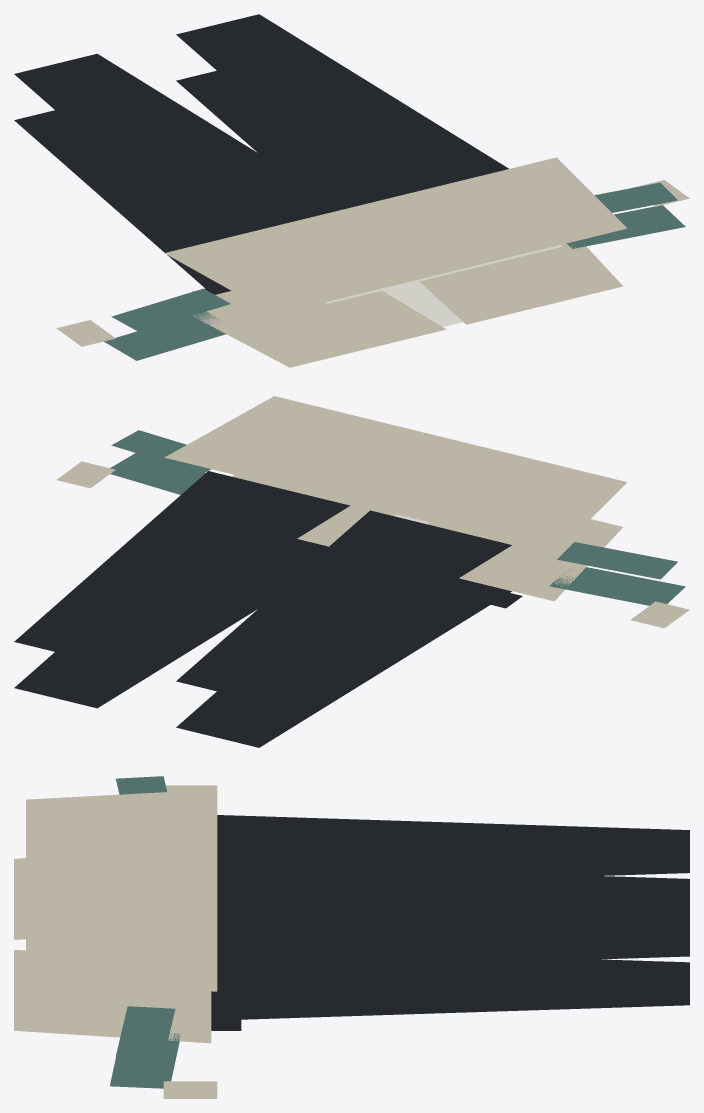
Rendered from structural.obj.
3 views of the same model, one above another, from view 1: azimuth 30°, elevation 25°; view 2: azimuth 150°, elevation 25°; view 3: azimuth 270°, elevation 25° (orthographic). The views are drawn at different scales.
Visible parts, largest first — view 1: dolman_back, trouser_back_R, trouser_back_L, dolman_front_L, dolman_front_R, trouser_front_L, trouser_front_R, hinge_gusset_L, hinge_facing_L, hinge_gusset_R, inner_front, hinge_facing_R (+2 smaller); view 2: dolman_back, trouser_back_R, trouser_back_L, trouser_front_L, trouser_front_R, dolman_front_L, hinge_gusset_L, hinge_facing_L, hinge_gusset_R, dolman_front_R, hinge_facing_R, cuff_R (+1 smaller); view 3: dolman_back, trouser_back_R, trouser_back_L, trouser_front_R, trouser_front_L, dolman_front_R, hinge_facing_R, hinge_gusset_R, cuff_R, dolman_front_L, hinge_facing_L, waistband.
Boxes of the visible parts, x1,y1,x2,y2 form: dolman_back: [164, 157, 627, 314]; trouser_back_R: [176, 14, 508, 203]; trouser_back_L: [14, 53, 346, 242]; dolman_front_L: [193, 290, 446, 367]; dolman_front_R: [419, 243, 623, 324]; trouser_front_L: [14, 110, 224, 290]; trouser_front_R: [176, 70, 367, 208]; hinge_gusset_L: [104, 311, 225, 360]; hinge_facing_L: [111, 288, 230, 331]; hinge_gusset_R: [566, 205, 685, 248]; inner_front: [382, 281, 462, 326]; hinge_facing_R: [594, 182, 677, 212]; dolman_back: [164, 396, 627, 553]; trouser_back_R: [14, 471, 349, 662]; trouser_back_L: [176, 510, 511, 701]; trouser_front_L: [176, 578, 511, 747]; trouser_front_R: [14, 539, 328, 708]; dolman_front_L: [427, 519, 622, 601]; hinge_gusset_L: [549, 567, 685, 605]; hinge_facing_L: [557, 542, 677, 579]; hinge_gusset_R: [110, 453, 205, 494]; dolman_front_R: [232, 475, 395, 546]; hinge_facing_R: [111, 430, 210, 473]; cuff_R: [57, 461, 115, 488]; dolman_back: [26, 789, 217, 991]; trouser_back_R: [217, 898, 689, 971]; trouser_back_L: [217, 815, 689, 888]; trouser_front_R: [217, 959, 689, 1020]; trouser_front_L: [217, 876, 689, 913]; dolman_front_R: [14, 950, 211, 1043]; hinge_facing_R: [116, 1006, 175, 1059]; hinge_gusset_R: [110, 1033, 181, 1088]; cuff_R: [163, 1081, 217, 1098]; dolman_front_L: [14, 858, 25, 939]; hinge_facing_L: [116, 776, 167, 794]; waistband: [211, 991, 241, 1030].
Size of the model in its own units: 1.24 by 0.115 by 1.13.
